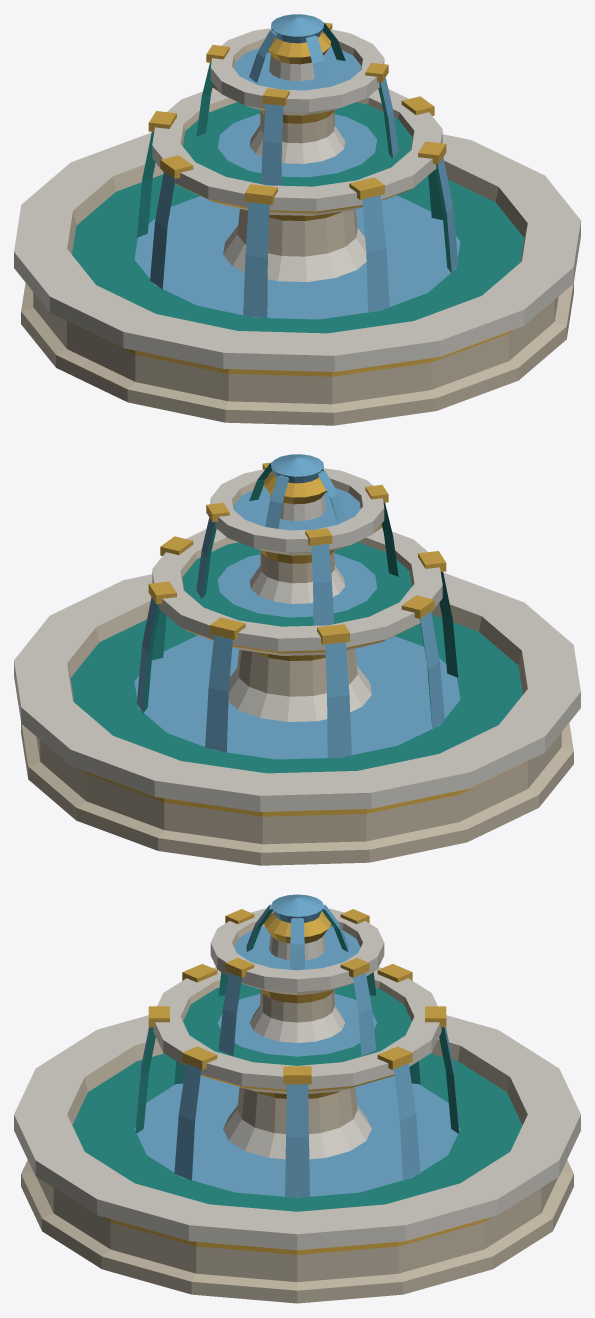
Rendered from cesme.glb.
3 renders of one model, top to bottom at view 1: azimuth 30°, elevation 25°; view 2: azimuth 150°, elevation 25°; view 3: azimuth 270°, elevation 25°, orthographic.
Visible parts, largest first — view 1: cesme; view 2: cesme; view 3: cesme.
Part boxes in pixels (x1=…): cesme: x1=14, y1=14, x2=580, y2=425; cesme: x1=14, y1=454, x2=580, y2=865; cesme: x1=14, y1=894, x2=580, y2=1303.
Size of the model in its own units: 3.2 by 1.8 by 3.2.
